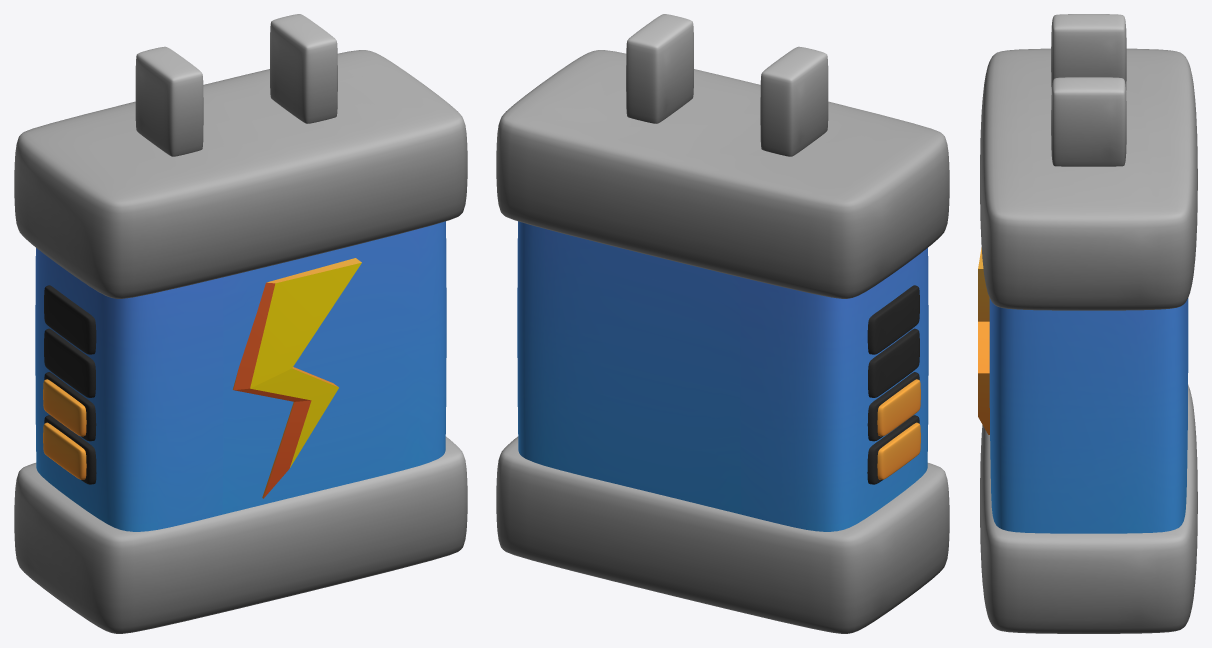
File: Battery.fbx
3 renders of one model, left to right at view 1: azimuth 30°, elevation 25°; view 2: azimuth 150°, elevation 25°; view 3: azimuth 270°, elevation 25°, orthographic. The views are drawn at different scales.
Visible parts, largest first — view 1: Battery; view 2: Battery; view 3: Battery.
Part boxes in pixels (left/top/right/bottom): Battery: left=14, top=14, right=467, bottom=633; Battery: left=496, top=14, right=949, bottom=633; Battery: left=978, top=14, right=1197, bottom=633.
Bounding box in the file's own units: 3.81 × 5.02 × 2.
Materials: 2 (2 with a texture image).
